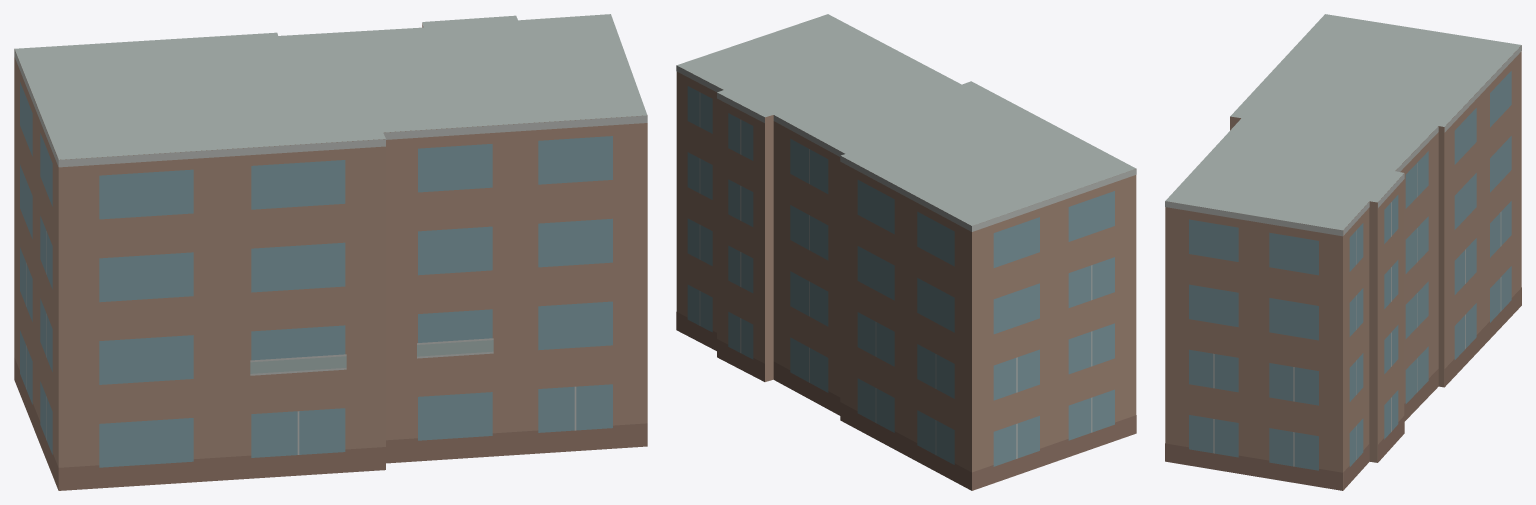
The model's file is survey-upis-32531231.glb.
3 renders of one model, left to right at view 1: azimuth 30°, elevation 25°; view 2: azimuth 150°, elevation 25°; view 3: azimuth 270°, elevation 25°, orthographic. The views are drawn at different scales.
Visible parts, largest first — view 1: survey-upis-32531231.tmp; view 2: survey-upis-32531231.tmp; view 3: survey-upis-32531231.tmp.
Part boxes in pixels (<box>): survey-upis-32531231.tmp: <box>14,14,647,490</box>; survey-upis-32531231.tmp: <box>676,14,1136,490</box>; survey-upis-32531231.tmp: <box>1165,14,1521,490</box>.
Size of the model in its own units: 19.07 by 10.7 by 13.29.
